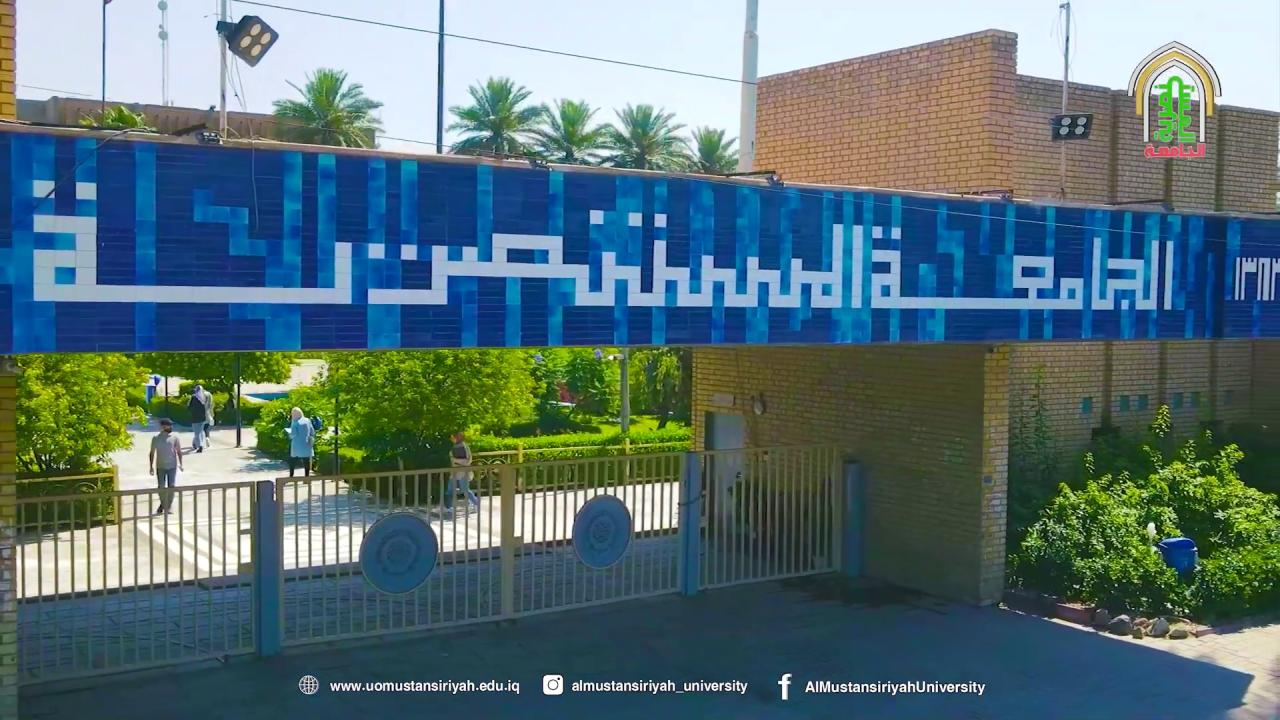person: (149, 417, 183, 514), (442, 430, 479, 517), (284, 406, 316, 477), (187, 384, 214, 453)
tree: (1007, 422, 1280, 647), (305, 346, 541, 499), (445, 74, 738, 173), (11, 351, 150, 529), (139, 347, 301, 443), (270, 66, 384, 149), (446, 75, 539, 156), (599, 102, 687, 170), (524, 96, 609, 164), (628, 347, 682, 427), (561, 348, 609, 416), (686, 125, 738, 173), (75, 103, 158, 133)
